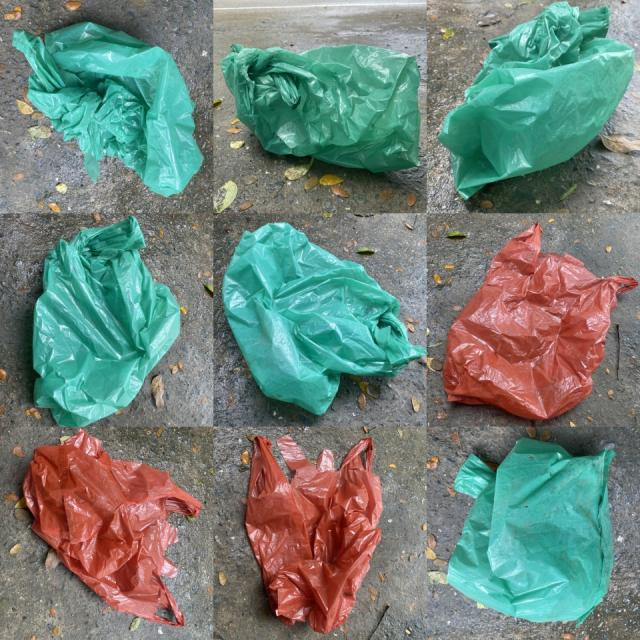Single-layer Plastic: (222, 222, 426, 415), (438, 1, 634, 198), (444, 222, 638, 419), (22, 429, 202, 627), (12, 22, 204, 196), (32, 216, 180, 426), (449, 438, 615, 623), (245, 435, 382, 633), (221, 44, 420, 172)
